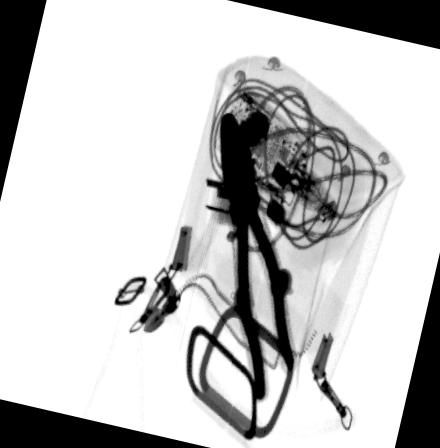Pliers: (217, 111, 296, 404)
